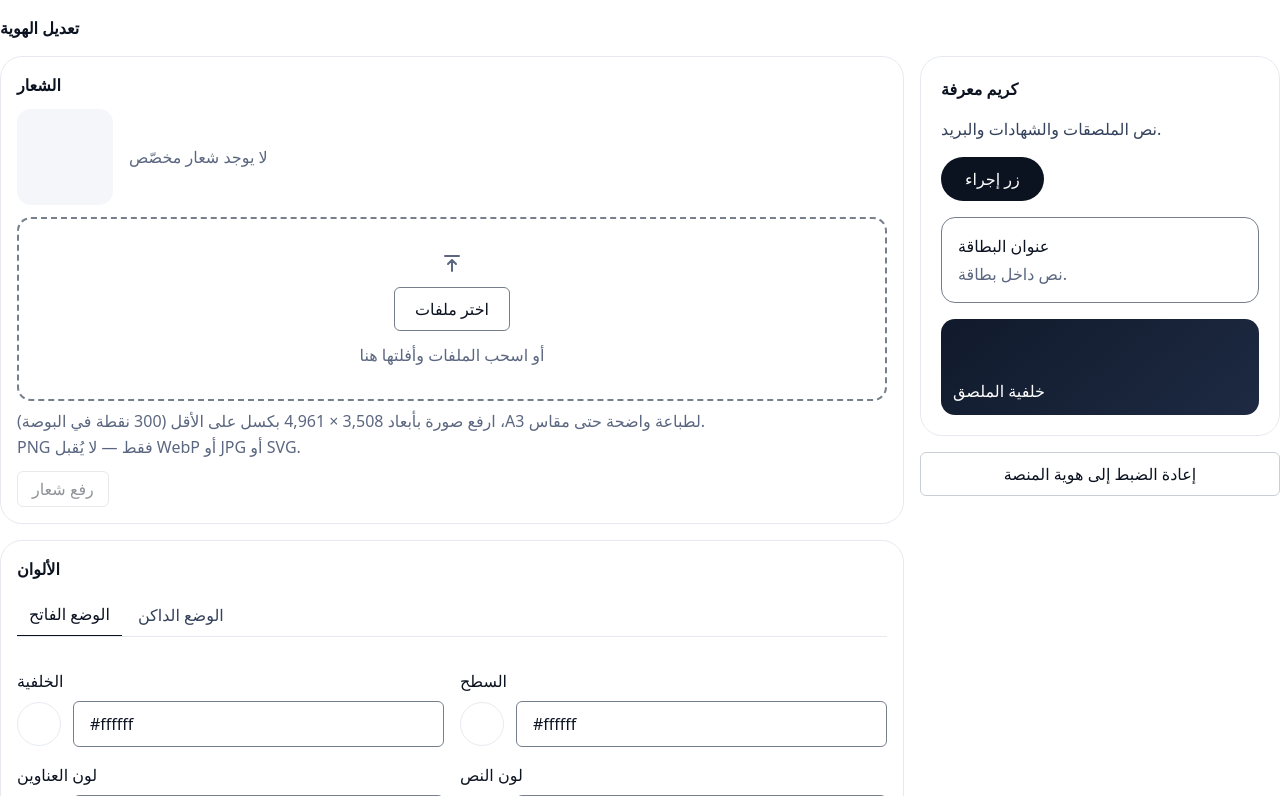
Test: BrandKitEdit — the eight cases of the deleted form › ★ REQ-UIX-013: the reset dialog names the org
Click the button "إعادة الضبط إلى هوية المنصة". click: (1100, 474)
box: [920, 452, 1279, 496]
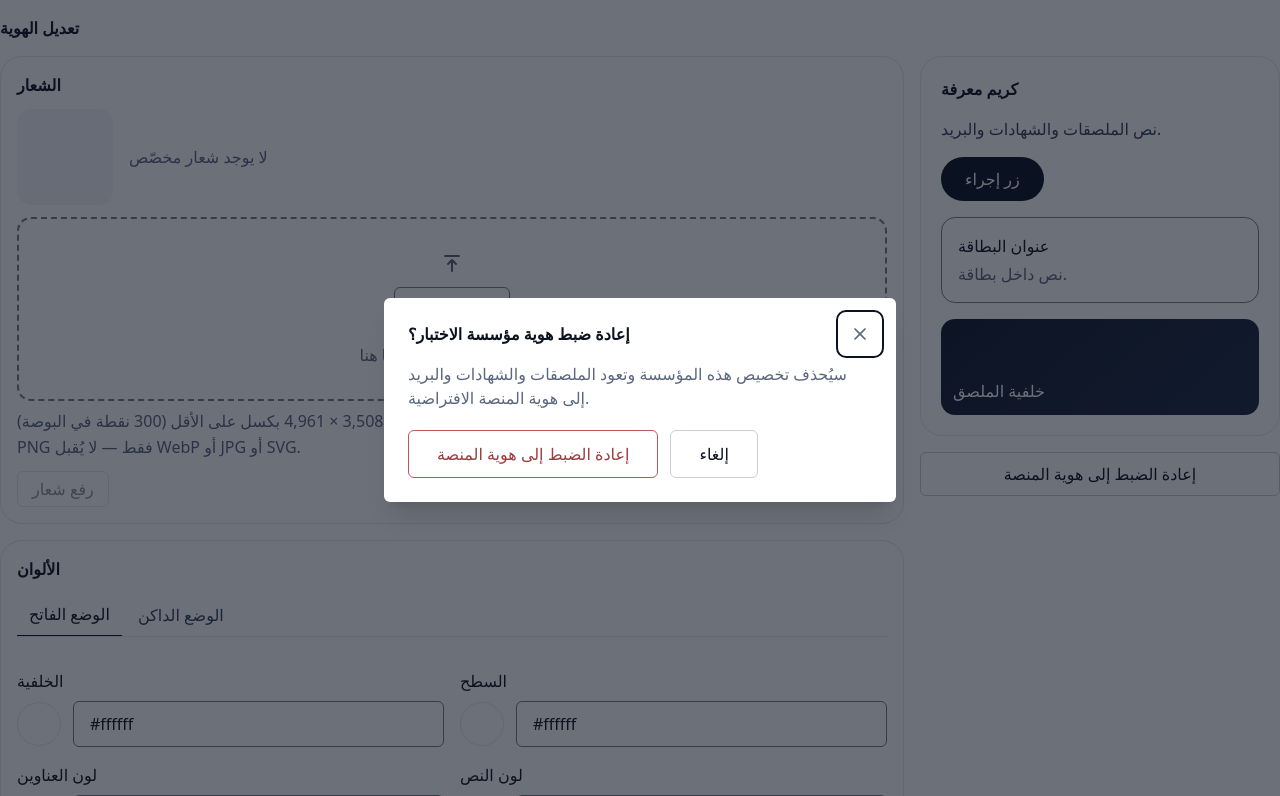
Expected: the dialog shows "مؤسسة الاختبار", [416, 323, 520, 345]
